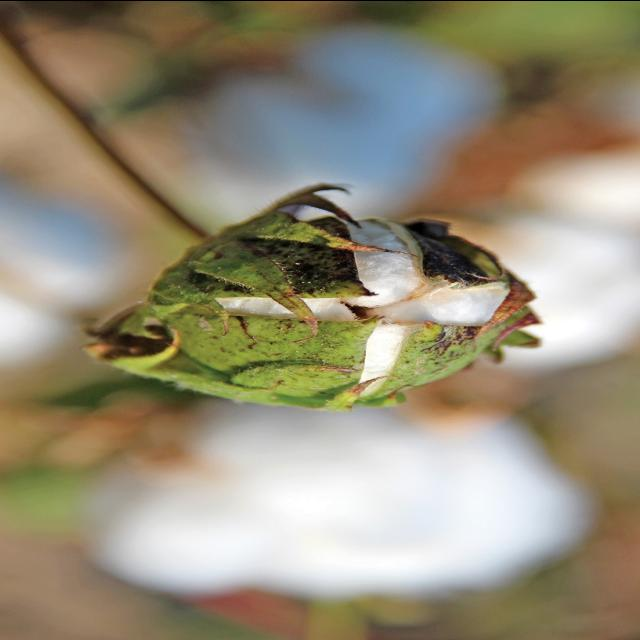Split Cotton Boll: (149, 217, 543, 410)
